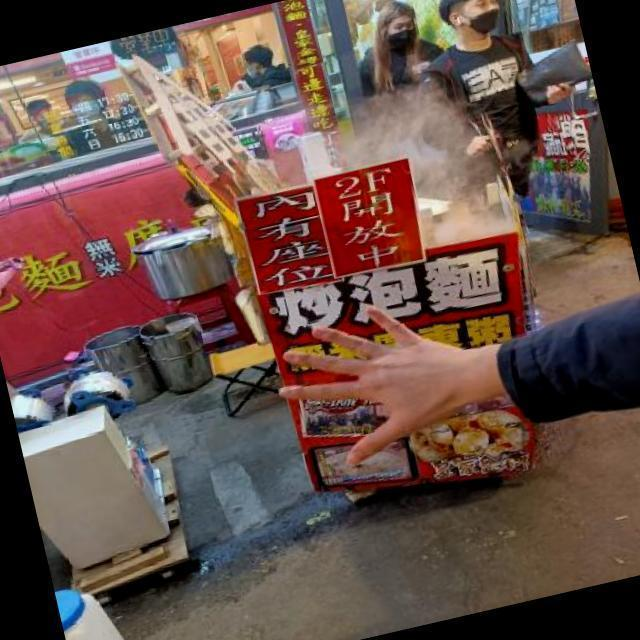hand: (256, 272, 515, 491)
